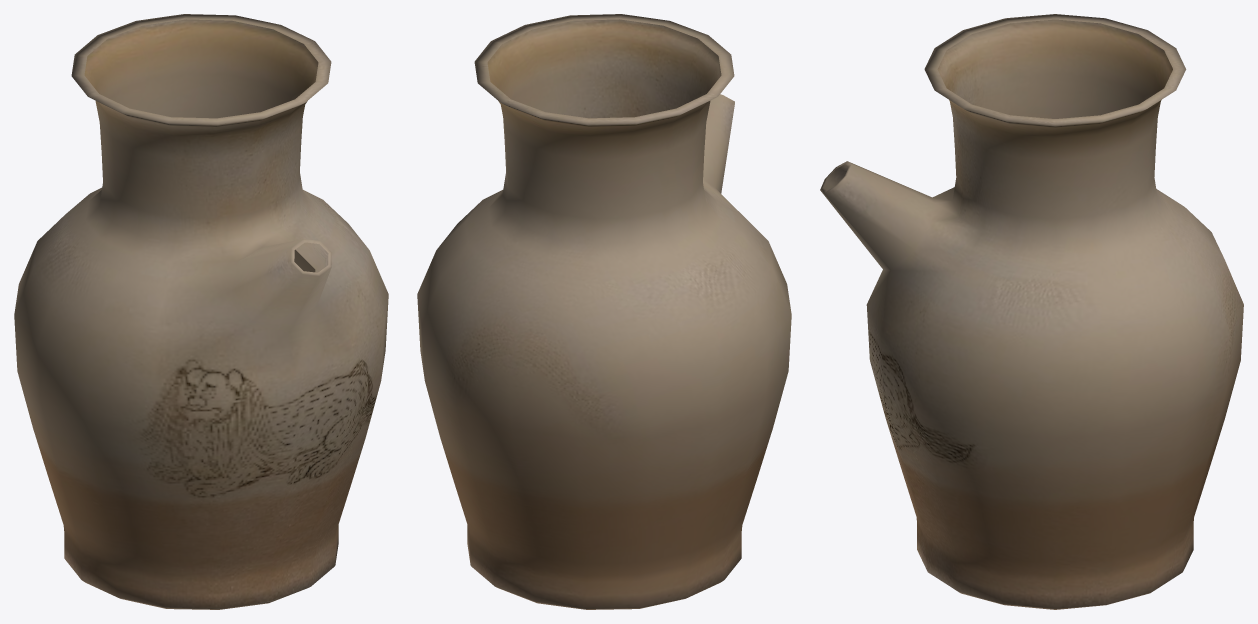
The model's file is artifact_lion.fbx.
3 views of the same model, side by side, from view 1: azimuth 30°, elevation 25°; view 2: azimuth 150°, elevation 25°; view 3: azimuth 270°, elevation 25° (orthographic).
Visible parts, largest first — view 1: lion; view 2: lion; view 3: lion.
Boxes of the visible parts, x1=… form: lion: x1=14, y1=14, x2=388, y2=609; lion: x1=417, y1=14, x2=791, y2=609; lion: x1=820, y1=14, x2=1243, y2=609.
Bounding box in the file's own units: 329 × 465 × 369.
Materials: 1 (1 with a texture image).
